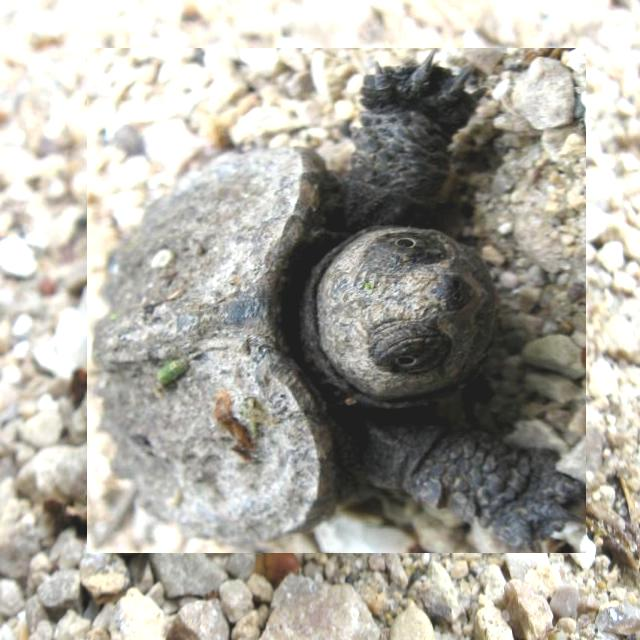Sea turtle: (86, 49, 588, 552)
